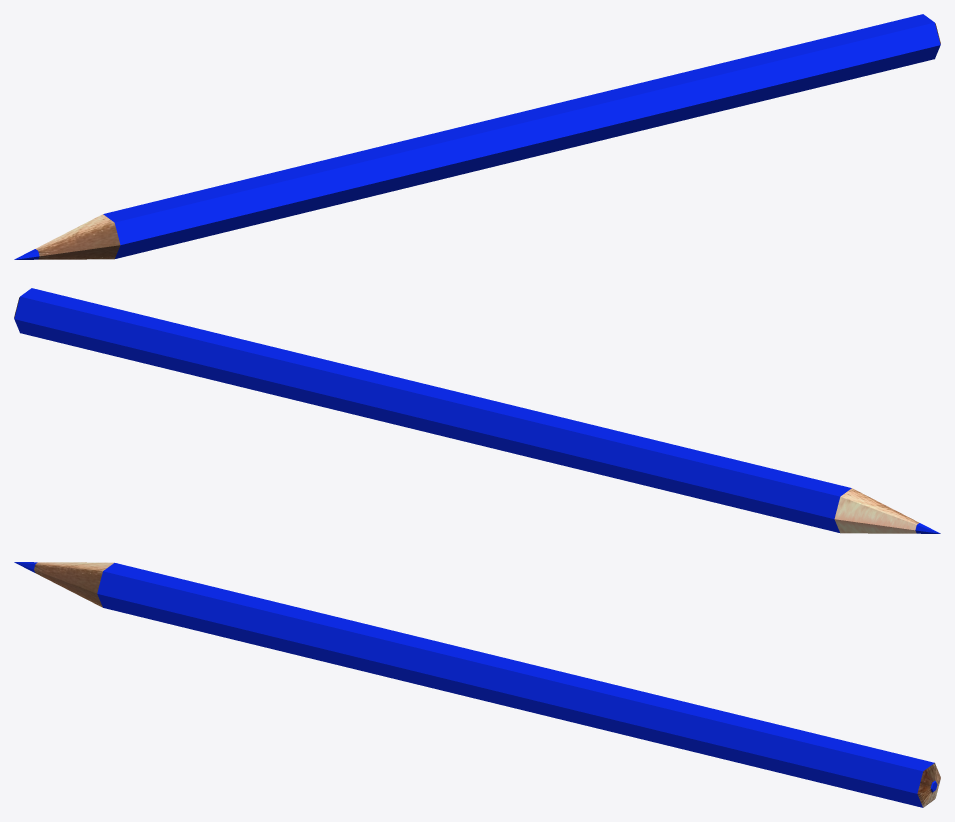
The model's file is Pencil_Blue.fbx.
3 views of the same model, one above another, from view 1: azimuth 30°, elevation 25°; view 2: azimuth 150°, elevation 25°; view 3: azimuth 330°, elevation 25° (orthographic).
Parts seen in each view (by area): view 1: Cylinder.005; view 2: Cylinder.005; view 3: Cylinder.005.
Boxes of the visible parts, <box> form: Cylinder.005: <box>14,14,940,259</box>; Cylinder.005: <box>14,288,940,533</box>; Cylinder.005: <box>14,562,940,807</box>.
Size of the model in its own units: 2482 by 94.31 by 109.
